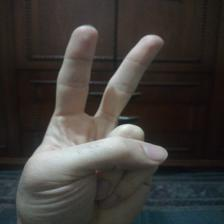two: (19, 20, 174, 220)
